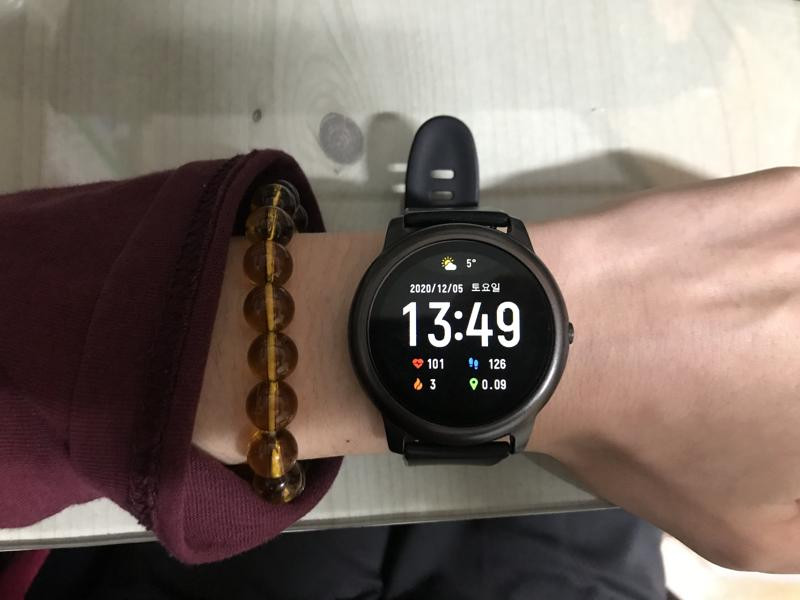watch: (347, 114, 580, 466)
